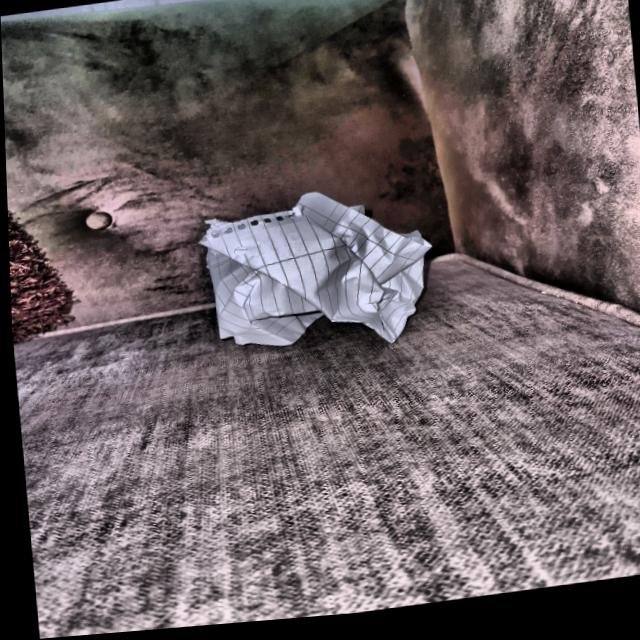Paper: (194, 183, 444, 369)
